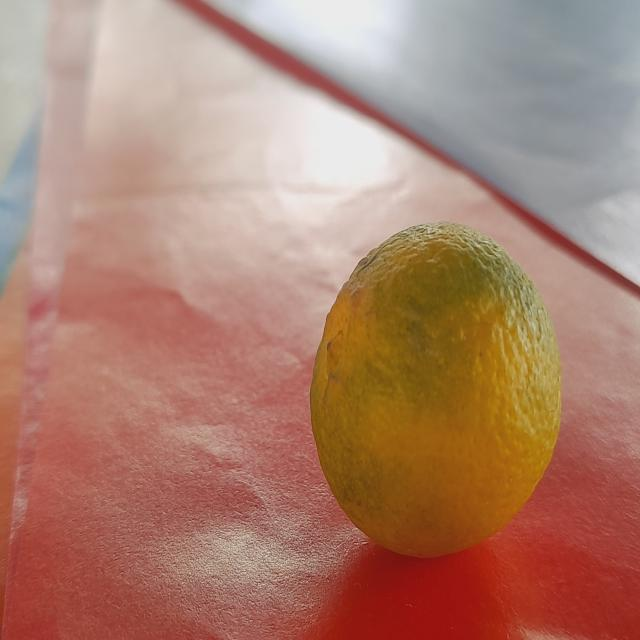greening: (300, 218, 586, 552)
